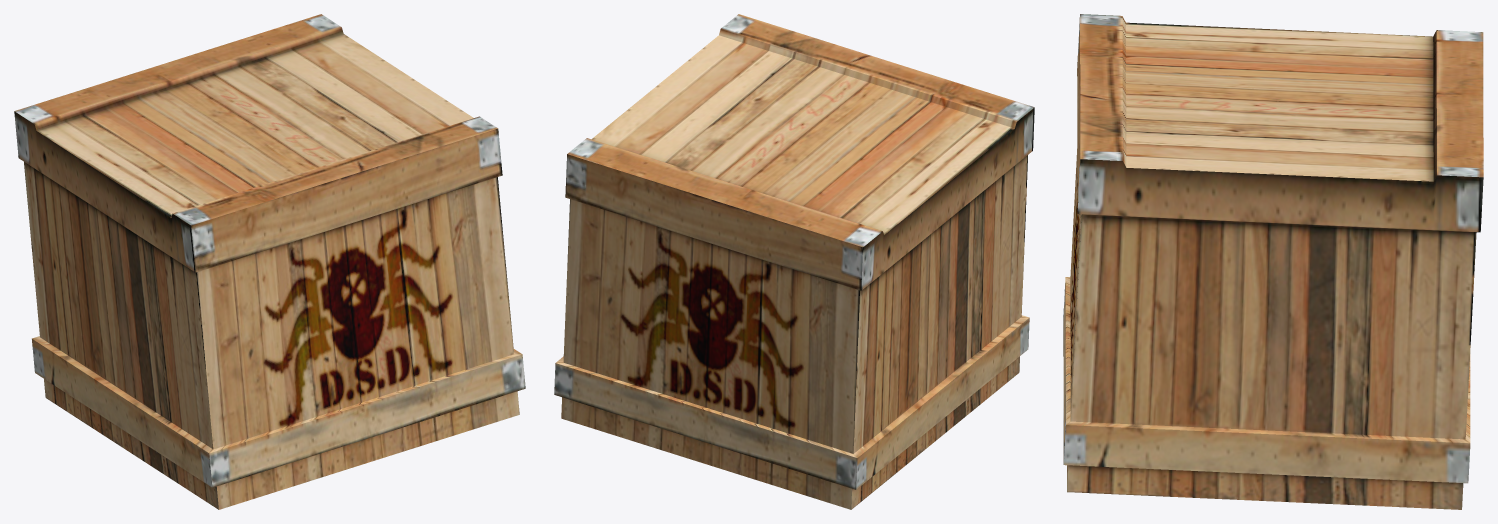
The model's file is cargo.fbx.
3 renders of one model, left to right at view 1: azimuth 30°, elevation 25°; view 2: azimuth 150°, elevation 25°; view 3: azimuth 270°, elevation 25°, orthographic. The views are drawn at different scales.
Visible parts, largest first — view 1: CARGO; view 2: CARGO; view 3: CARGO.
Boxes of the visible parts, x1,y1,x2,y2 form: CARGO: [14, 14, 525, 509]; CARGO: [554, 14, 1034, 509]; CARGO: [1063, 14, 1483, 509].
Bounding box in the file's own units: 5.99 × 5.63 × 5.86.
